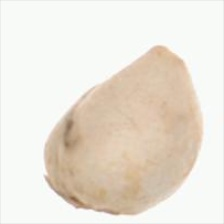L3: (148, 41, 186, 66)
L4: (44, 45, 204, 215)
